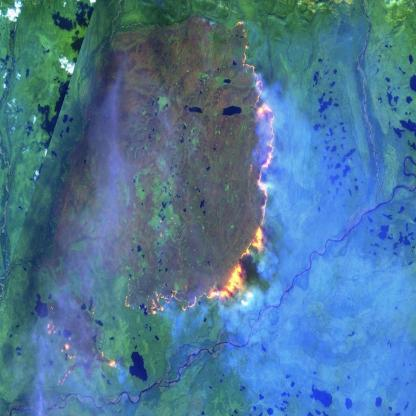fire: (142, 17, 284, 320), (40, 316, 120, 391)
